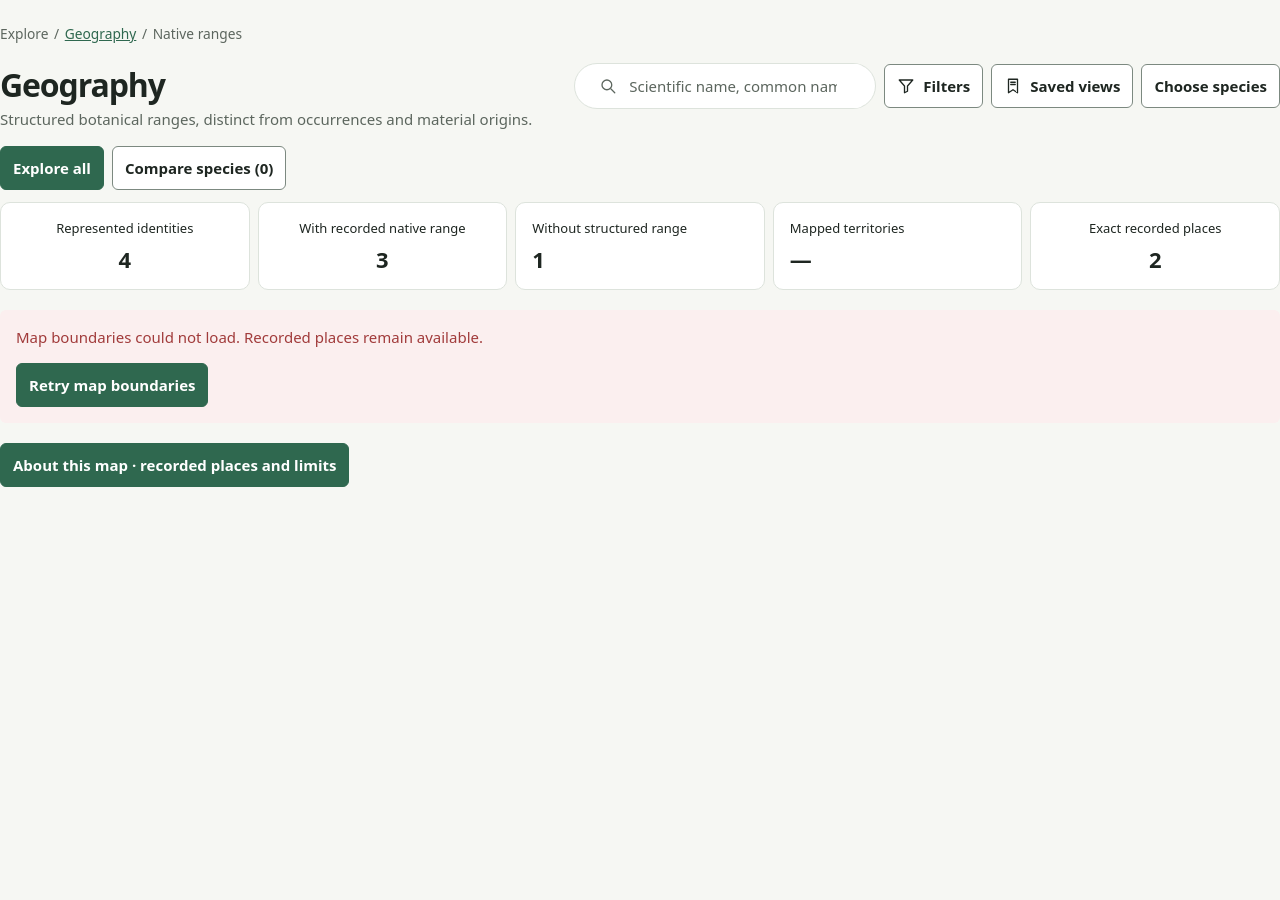
Test: geometry failure preserves recorded lists and supports retry
Expected: the text "Map boundaries could not load" is shown, [16,327,483,347]
Click the button "About this map · recorded places and limits". click: (175, 465)
box: [0,443,350,487]
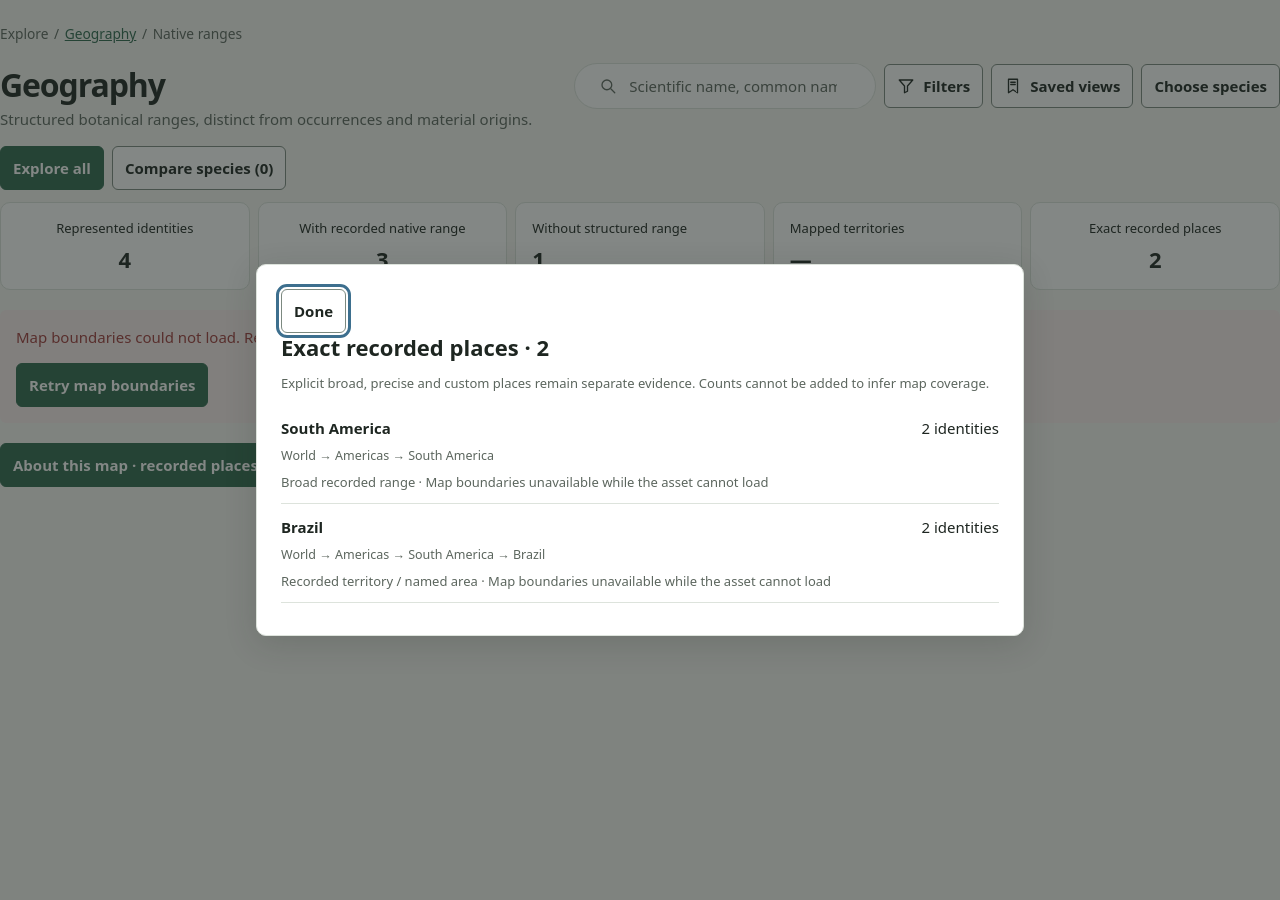
Expected: the dialog named "Data and limitations" is shown, [256,264,1024,636]
Expected: the heading "Exact recorded places · 2" is shown, [281,332,549,362]
Expected: the text "World → Americas → South America" is shown, [281,447,494,464]
Click the button "Done". click: (314, 311)
box: [281,289,346,333]
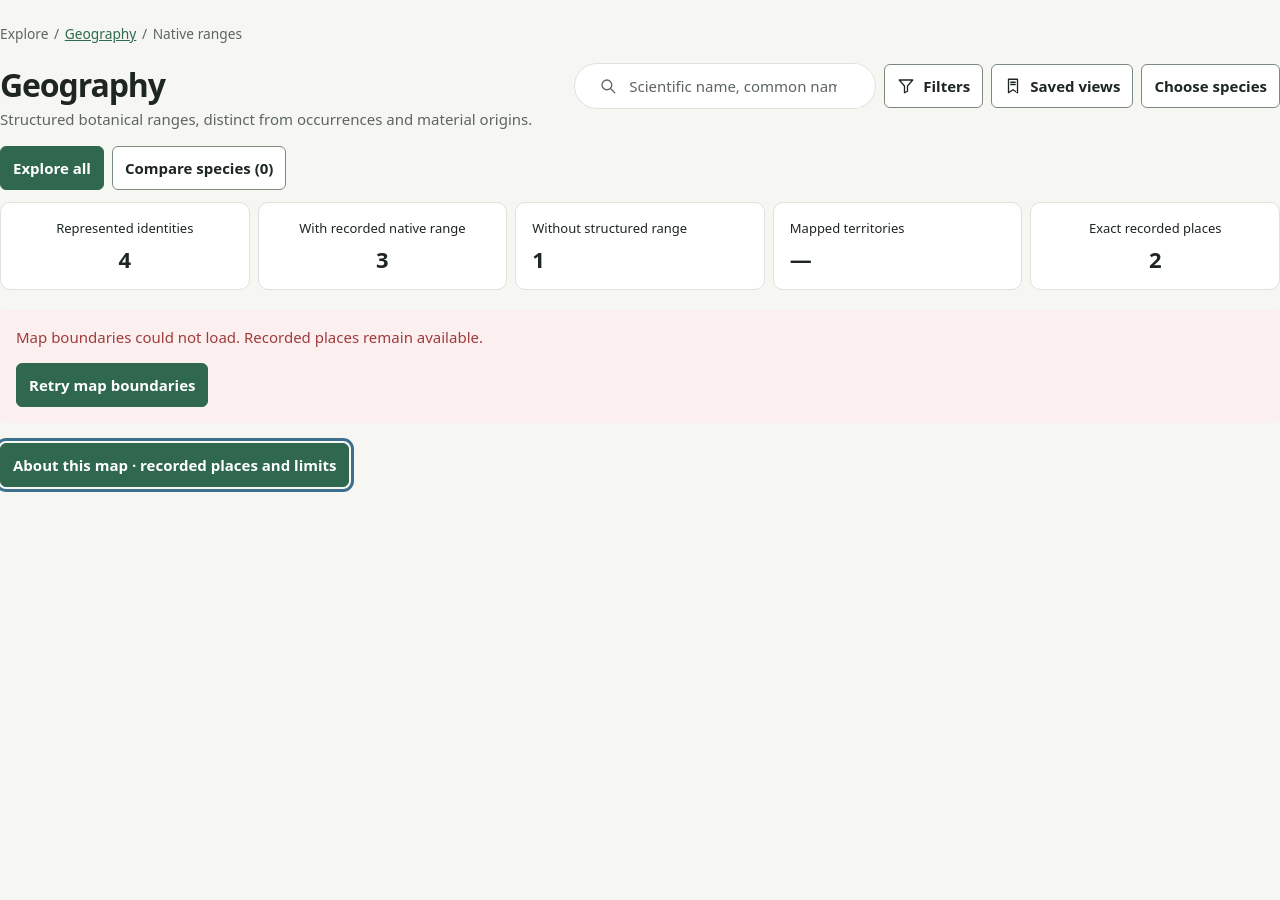
Click the button "Retry map boundaries". click: (112, 385)
box: [16,363,208,407]
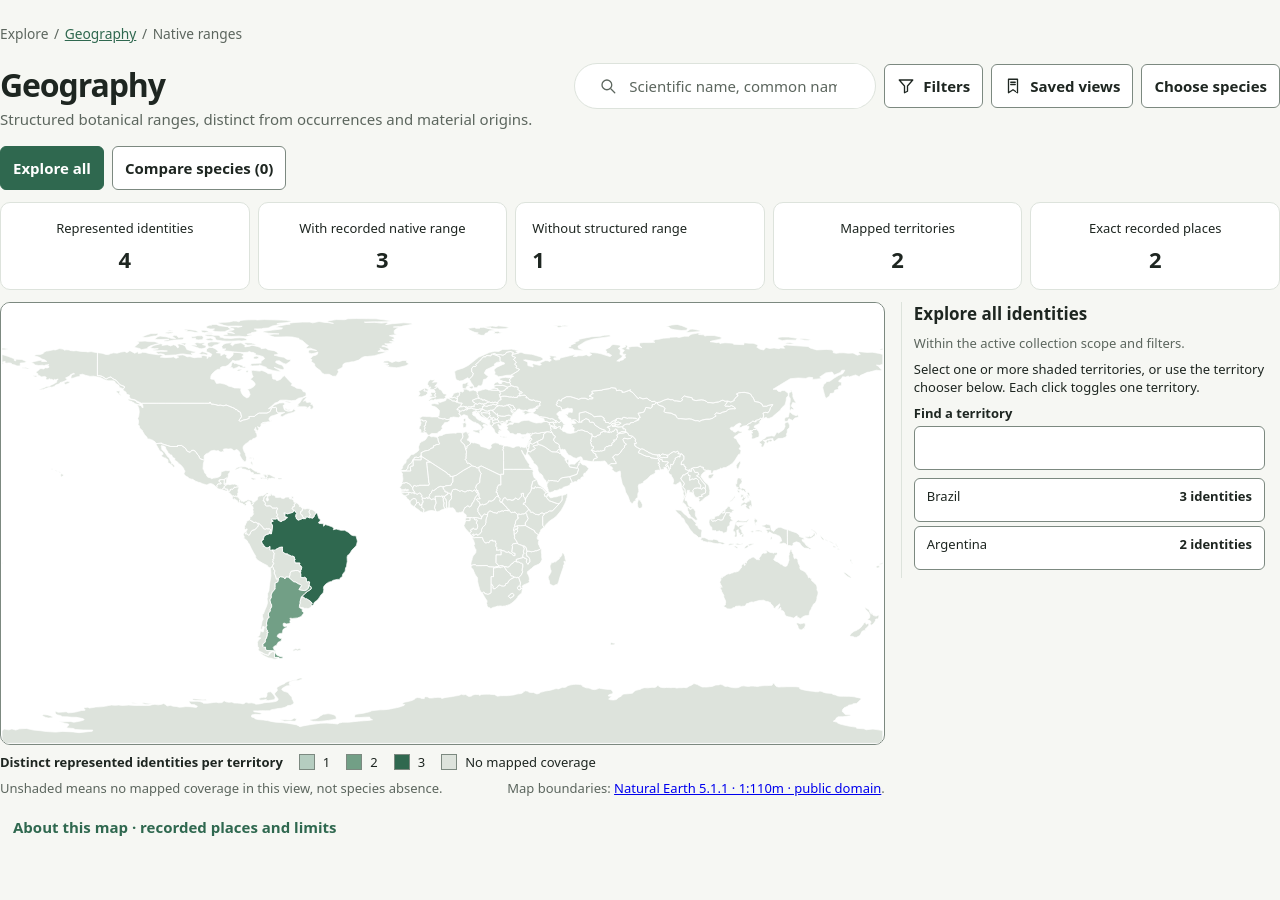
Expected: the icon named "Collection recorded" is shown, [0,302,885,745]
